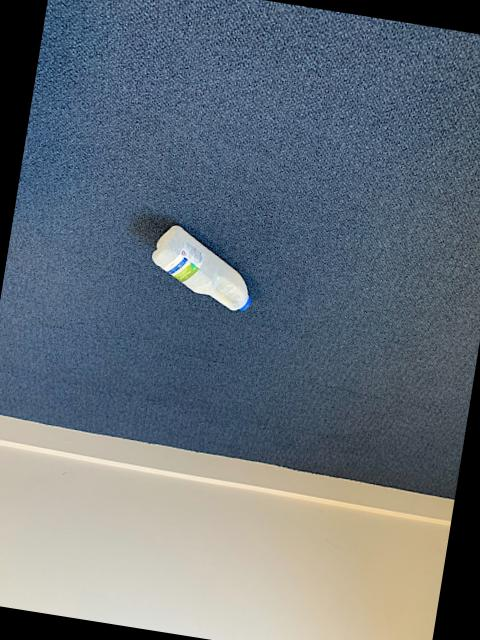plastic: (154, 228, 252, 312)
